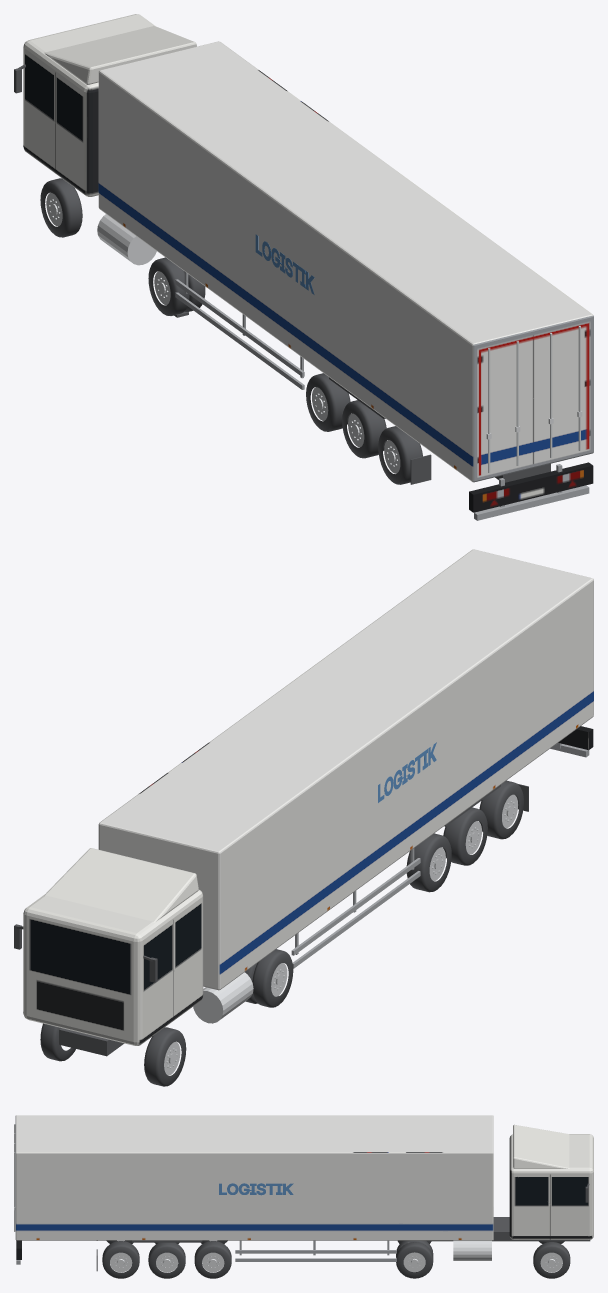
File: traffic_truck.glb
3 views of the same model, one above another, from view 1: azimuth 30°, elevation 25°; view 2: azimuth 150°, elevation 25°; view 3: azimuth 270°, elevation 25° (orthographic). The views are drawn at different scales.
Parts seen in each view (by area): view 1: body, wheel_1l, wheel_0l, wheel_2l, wheel_3l, wheel_4l; view 2: body, wheel_1l, wheel_0l, wheel_4l, wheel_3l, wheel_2l, wheel_0r; view 3: body, wheel_1r, wheel_4r, wheel_2r, wheel_3r, wheel_0r.
Boxes of the visible parts, x1=… form: body: x1=14, y1=14, x2=593, y2=520; wheel_1l: x1=148, y1=257, x2=205, y2=315; wheel_0l: x1=40, y1=178, x2=82, y2=237; wheel_2l: x1=306, y1=373, x2=350, y2=431; wheel_3l: x1=342, y1=400, x2=386, y2=458; wheel_4l: x1=378, y1=426, x2=422, y2=484; body: x1=14, y1=549, x2=593, y2=1056; wheel_1l: x1=245, y1=949, x2=293, y2=1007; wheel_0l: x1=144, y1=1027, x2=186, y2=1086; wheel_4l: x1=479, y1=780, x2=523, y2=839; wheel_3l: x1=443, y1=807, x2=487, y2=865; wheel_2l: x1=406, y1=833, x2=451, y2=892; wheel_0r: x1=40, y1=1023, x2=75, y2=1061; body: x1=14, y1=1115, x2=593, y2=1276; wheel_1r: x1=396, y1=1240, x2=433, y2=1278; wheel_4r: x1=102, y1=1241, x2=139, y2=1278; wheel_2r: x1=194, y1=1241, x2=231, y2=1278; wheel_3r: x1=148, y1=1242, x2=185, y2=1278; wheel_0r: x1=533, y1=1242, x2=570, y2=1278.
Size of the model in its own units: 2.96 by 4 by 16.5.
2 materials, 1 textured.
